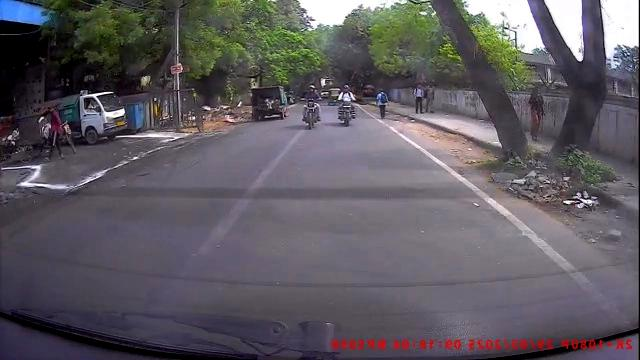motorcycle_with_helmet: (301, 83, 322, 131), (337, 83, 356, 128)
